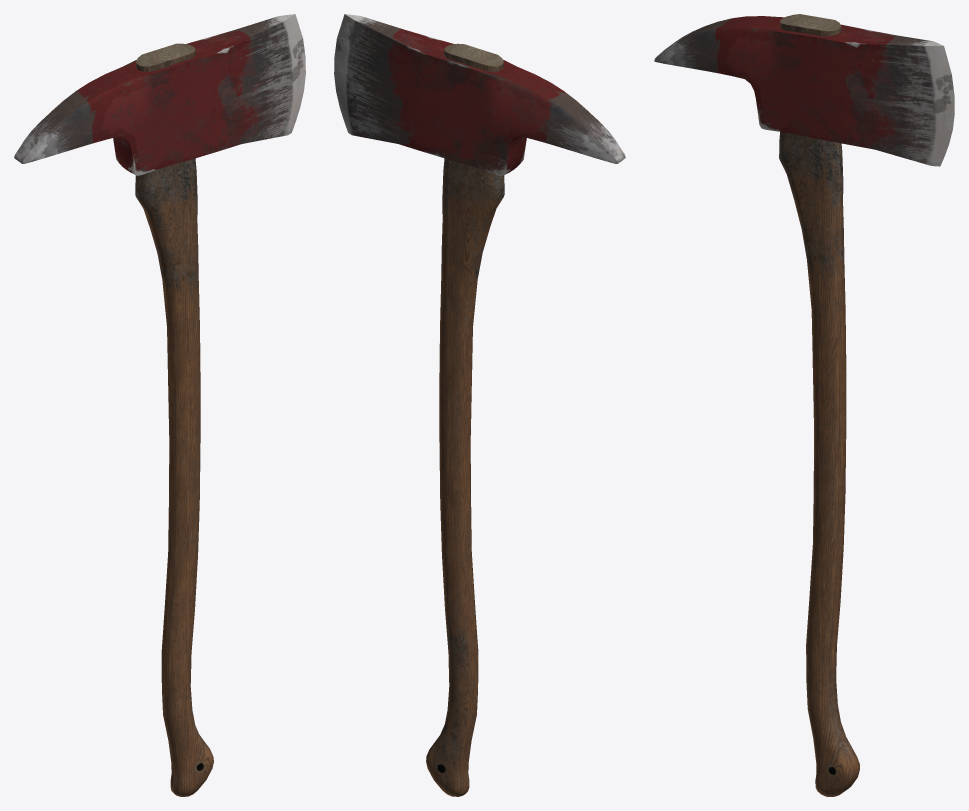
Rendered from Fire Axe.FBX.
3 views of the same model, side by side, from view 1: azimuth 30°, elevation 25°; view 2: azimuth 150°, elevation 25°; view 3: azimuth 330°, elevation 25° (orthographic). The views are drawn at different scales.
Visible parts, largest first — view 1: Fire_Axe; view 2: Fire_Axe; view 3: Fire_Axe.
Boxes of the visible parts, x1=… form: Fire_Axe: x1=14, y1=14, x2=305, y2=796; Fire_Axe: x1=334, y1=14, x2=625, y2=796; Fire_Axe: x1=654, y1=14, x2=954, y2=796.
Bounding box in the file's own units: 15.65 × 39.23 × 1.77.
1 material, 1 textured.
